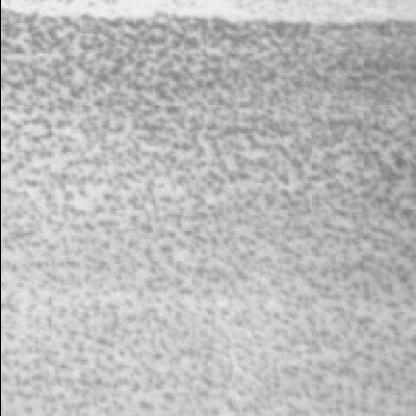pitted_surface: (6, 19, 416, 414)
